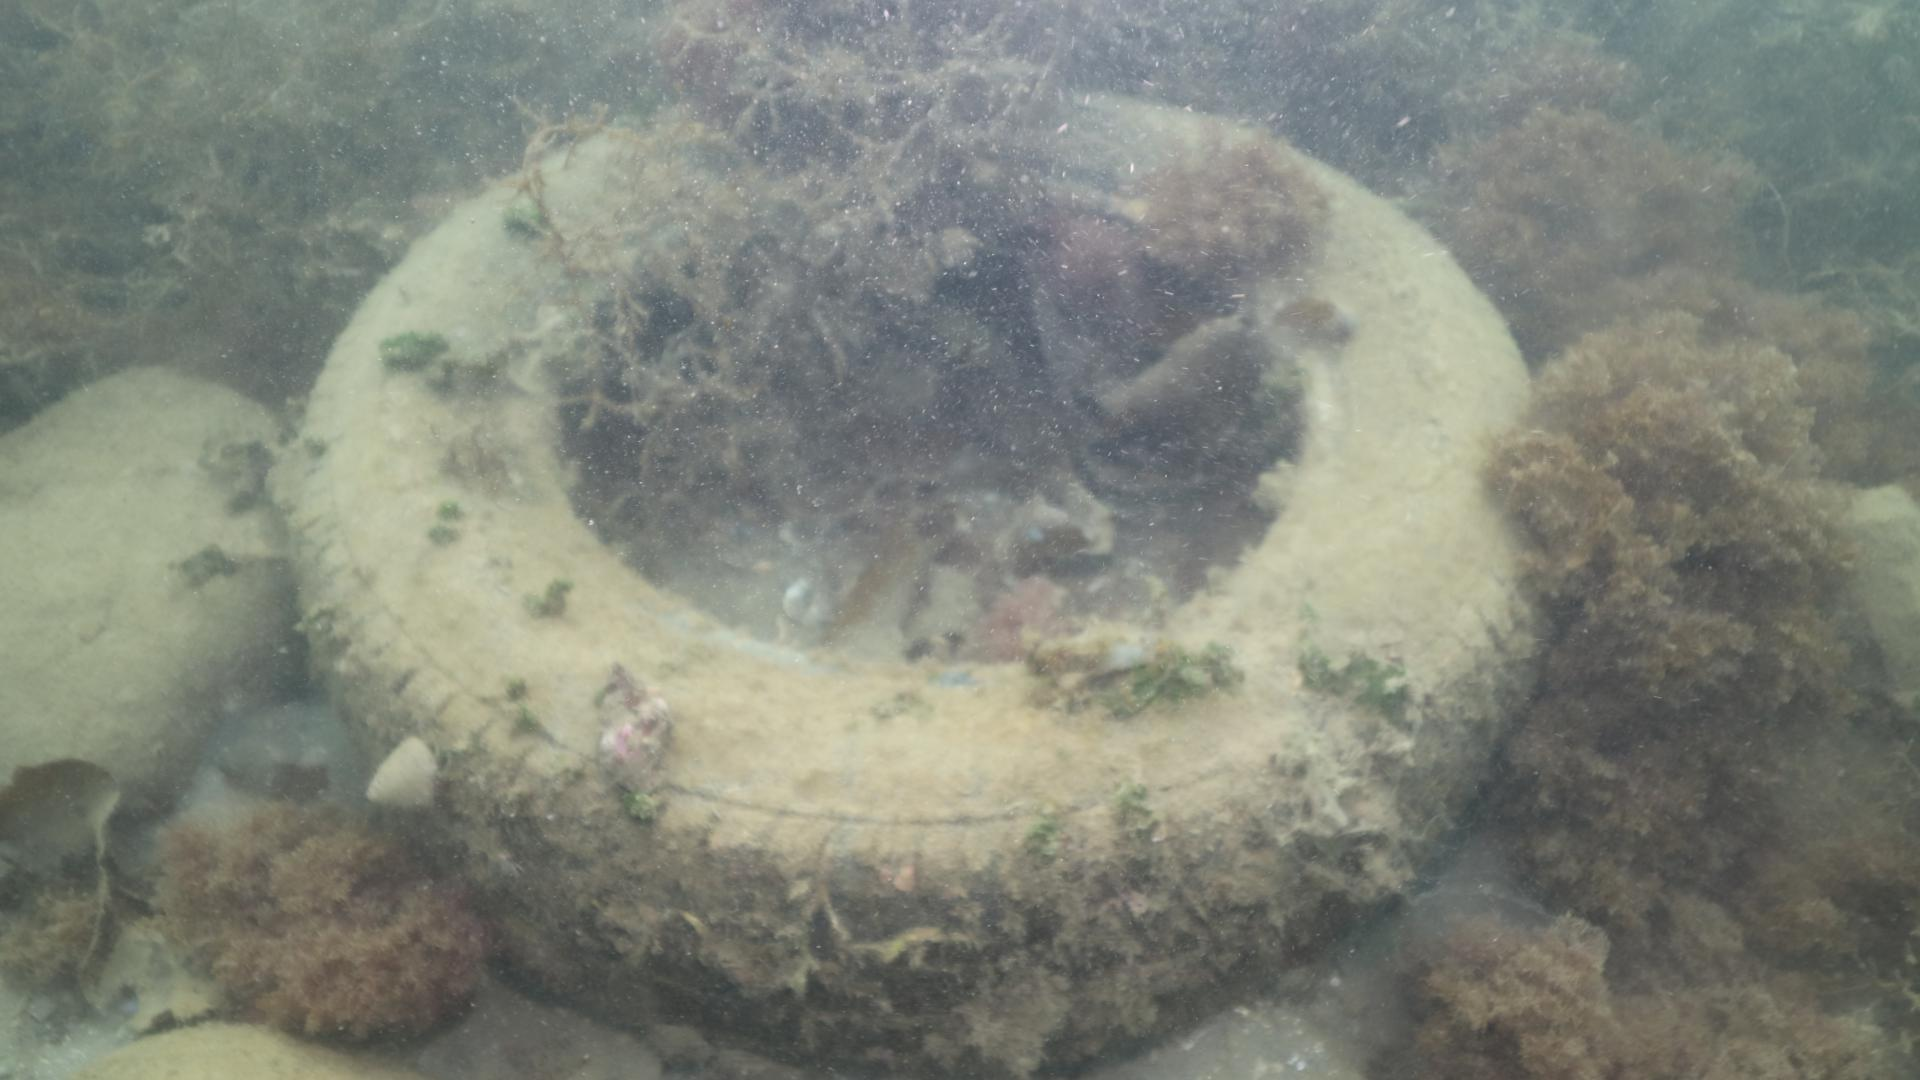tire: (280, 65, 1559, 1080)
